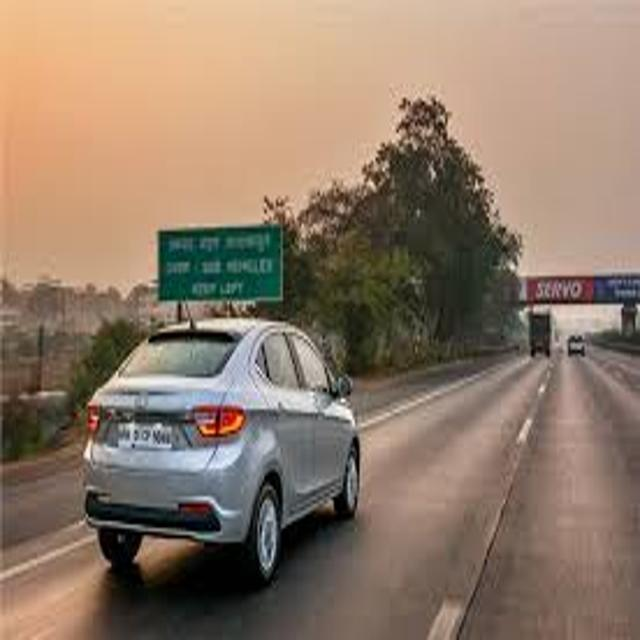car: (83, 317, 359, 586)
